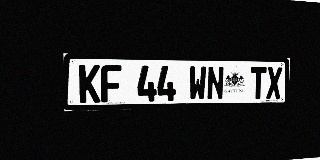4: (137, 65, 157, 102), (157, 66, 176, 101)
F: (101, 65, 121, 102)
K: (79, 65, 100, 103)
N: (207, 66, 224, 100)
T: (250, 67, 266, 99)
W: (188, 66, 206, 101)
X: (266, 67, 282, 99)
